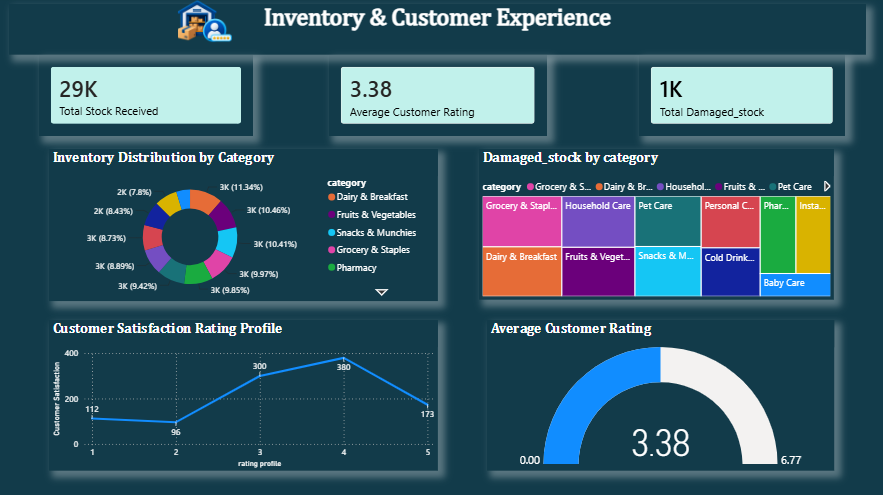

The page's visual inventory and layout, read from the dashboard file:
{"tool":"powerbi","page":{"name":"Inventory & Customer Experience","canvas":[1280,720],"ordinal":3},"visuals":[{"type":"textbox","title":"Inventory & Customer Experience","box":[17.3,11.5,1234.1,73.4],"z":0},{"type":"cardVisual","fields":{"Data":["Sum(Inventory.stock_received)"]},"box":[60.5,85,308.2,116.6],"z":1000},{"type":"cardVisual","fields":{"Data":["Avg(microfulfilliq blinkit_customer_feedback.rating)"]},"box":[478.1,85,313.9,116.6],"z":2000},{"type":"donutChart","title":"Inventory Distribution by Category","fields":{"Category":["microfulfilliq blinkit_products.category"],"Y":["Sum(Inventory.stock_received)"]},"box":[74.9,220.3,560.2,218.9],"z":3000},{"type":"gauge","fields":{"Y":["Avg(microfulfilliq blinkit_customer_feedback.rating)"]},"box":[705.6,466.6,499.7,217.4],"z":4000},{"type":"cardVisual","fields":{"Data":["Sum(Inventory.damaged_stock)"]},"box":[924.5,85,296.6,116.6],"z":5000},{"type":"treemap","title":" Damaged_stock  by category","fields":{"Group":["microfulfilliq blinkit_products.category"],"Values":["Sum(Inventory.damaged_stock)"]},"box":[694.1,220.3,511.2,217.4],"z":6000},{"type":"lineChart","title":"Customer Satisfaction Rating Profile","fields":{"Category":["microfulfilliq blinkit_customer_feedback.rating"],"Y":["CountNonNull(microfulfilliq blinkit_customer_feedback.order_id)"]},"box":[74.9,466.6,560.2,217.4],"z":7000},{"type":"image","box":[230.4,0,138.2,85],"z":7001}]}

Visuals, with their boxes in screenshot pixels (x1, y1, x2, y2), scaled from the page's 1280x720 canvas onto the 883x495 screenshot:
"Inventory & Customer Experience" textbox: BBox(12, 8, 863, 58)
cardVisual - Sum(Inventory.stock_received): BBox(42, 58, 254, 139)
cardVisual - Avg(microfulfilliq blinkit_customer_feedback.rating): BBox(330, 58, 546, 139)
"Inventory Distribution by Category" donutChart: BBox(52, 151, 438, 302)
gauge - Avg(microfulfilliq blinkit_customer_feedback.rating): BBox(487, 321, 831, 470)
cardVisual - Sum(Inventory.damaged_stock): BBox(638, 58, 842, 139)
" Damaged_stock  by category" treemap: BBox(479, 151, 831, 301)
"Customer Satisfaction Rating Profile" lineChart: BBox(52, 321, 438, 470)
image: BBox(159, 0, 254, 58)
